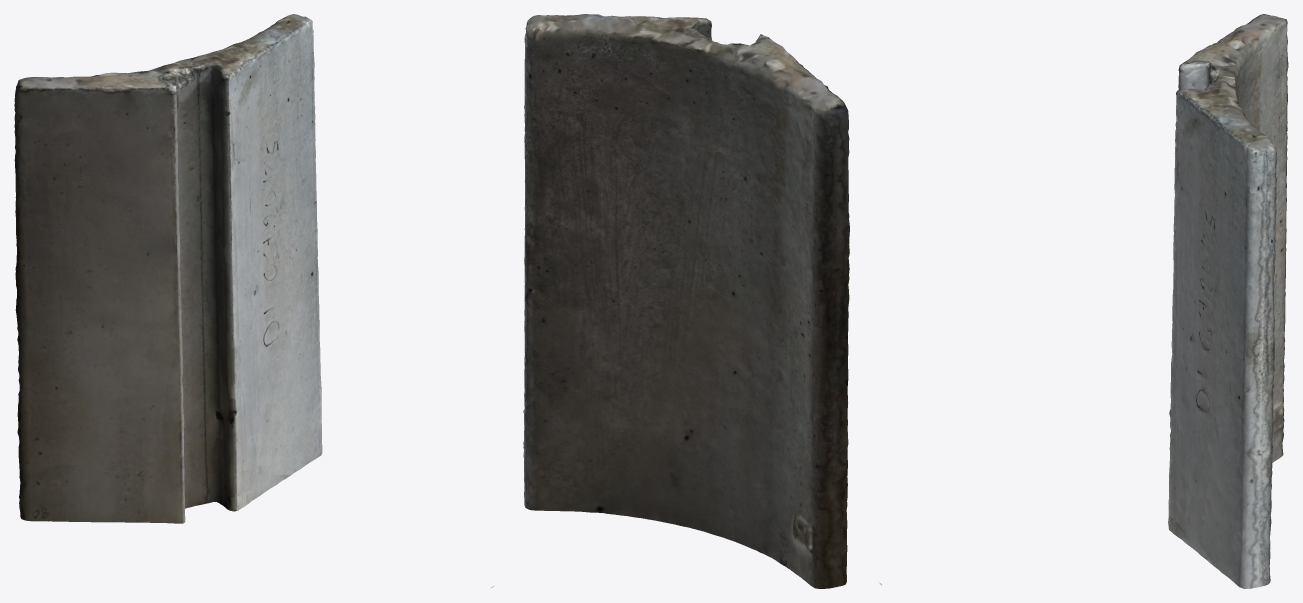
The picture shows the model from 3 angles, left to right: view 1: azimuth 30°, elevation 25°; view 2: azimuth 150°, elevation 25°; view 3: azimuth 270°, elevation 25°; orthographic projection. The views are drawn at different scales.
Parts seen in each view (by area): view 1: Node; view 2: Node; view 3: Node.
Part boxes in pixels (x1,y1,x2,y2): Node: [14, 14, 494, 588]; Node: [523, 14, 849, 588]; Node: [879, 14, 1288, 588].
Bounding box in the file's own units: 0.3331 × 0.4694 × 0.3945.
Materials: 1 (1 with a texture image).
